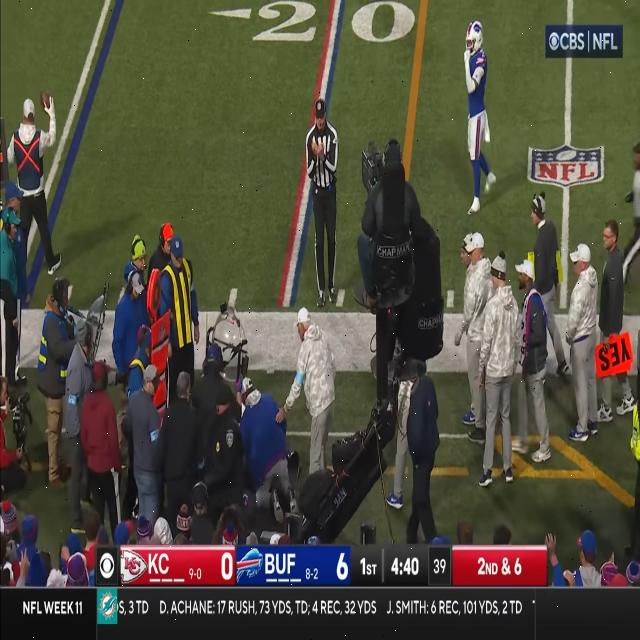Player: (463, 17, 501, 216)
Referee: (307, 100, 339, 308)
